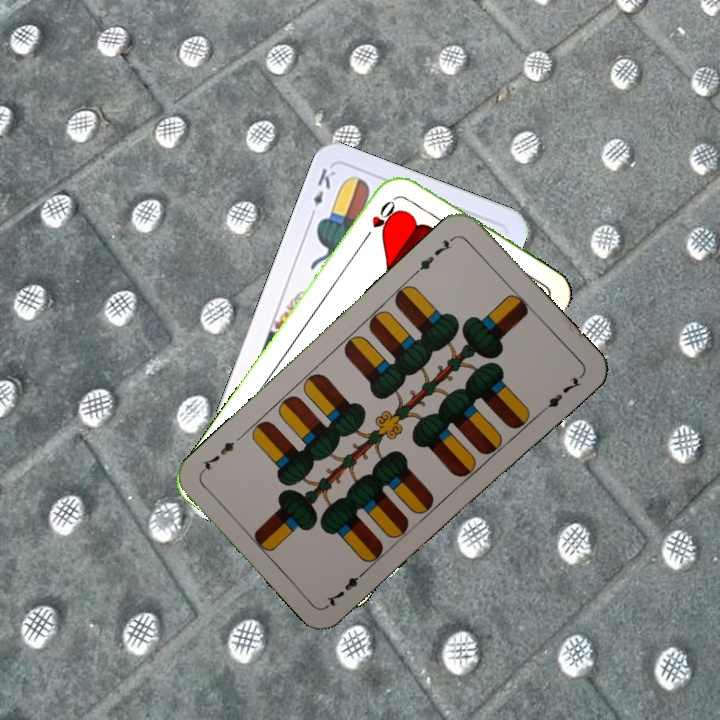E7: (322, 564, 371, 609), (410, 232, 458, 277)
EK: (305, 164, 338, 222)
HO: (361, 191, 404, 241)
